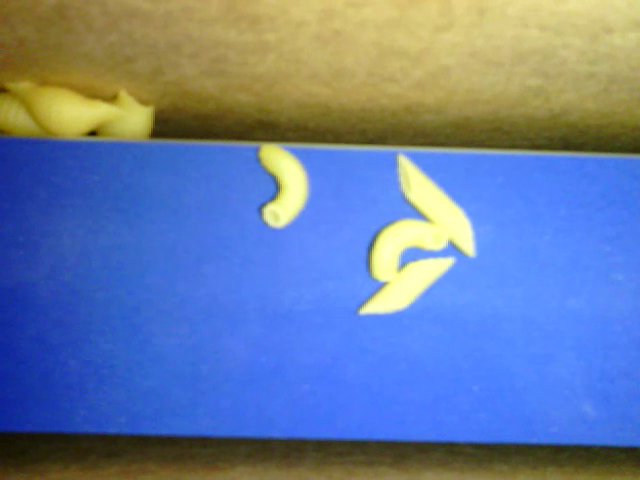elbow: (254, 142, 313, 232), (366, 217, 447, 281)
penne: (396, 150, 477, 257), (355, 256, 462, 316)
shell: (4, 72, 128, 142), (98, 90, 157, 145), (1, 89, 66, 138)
